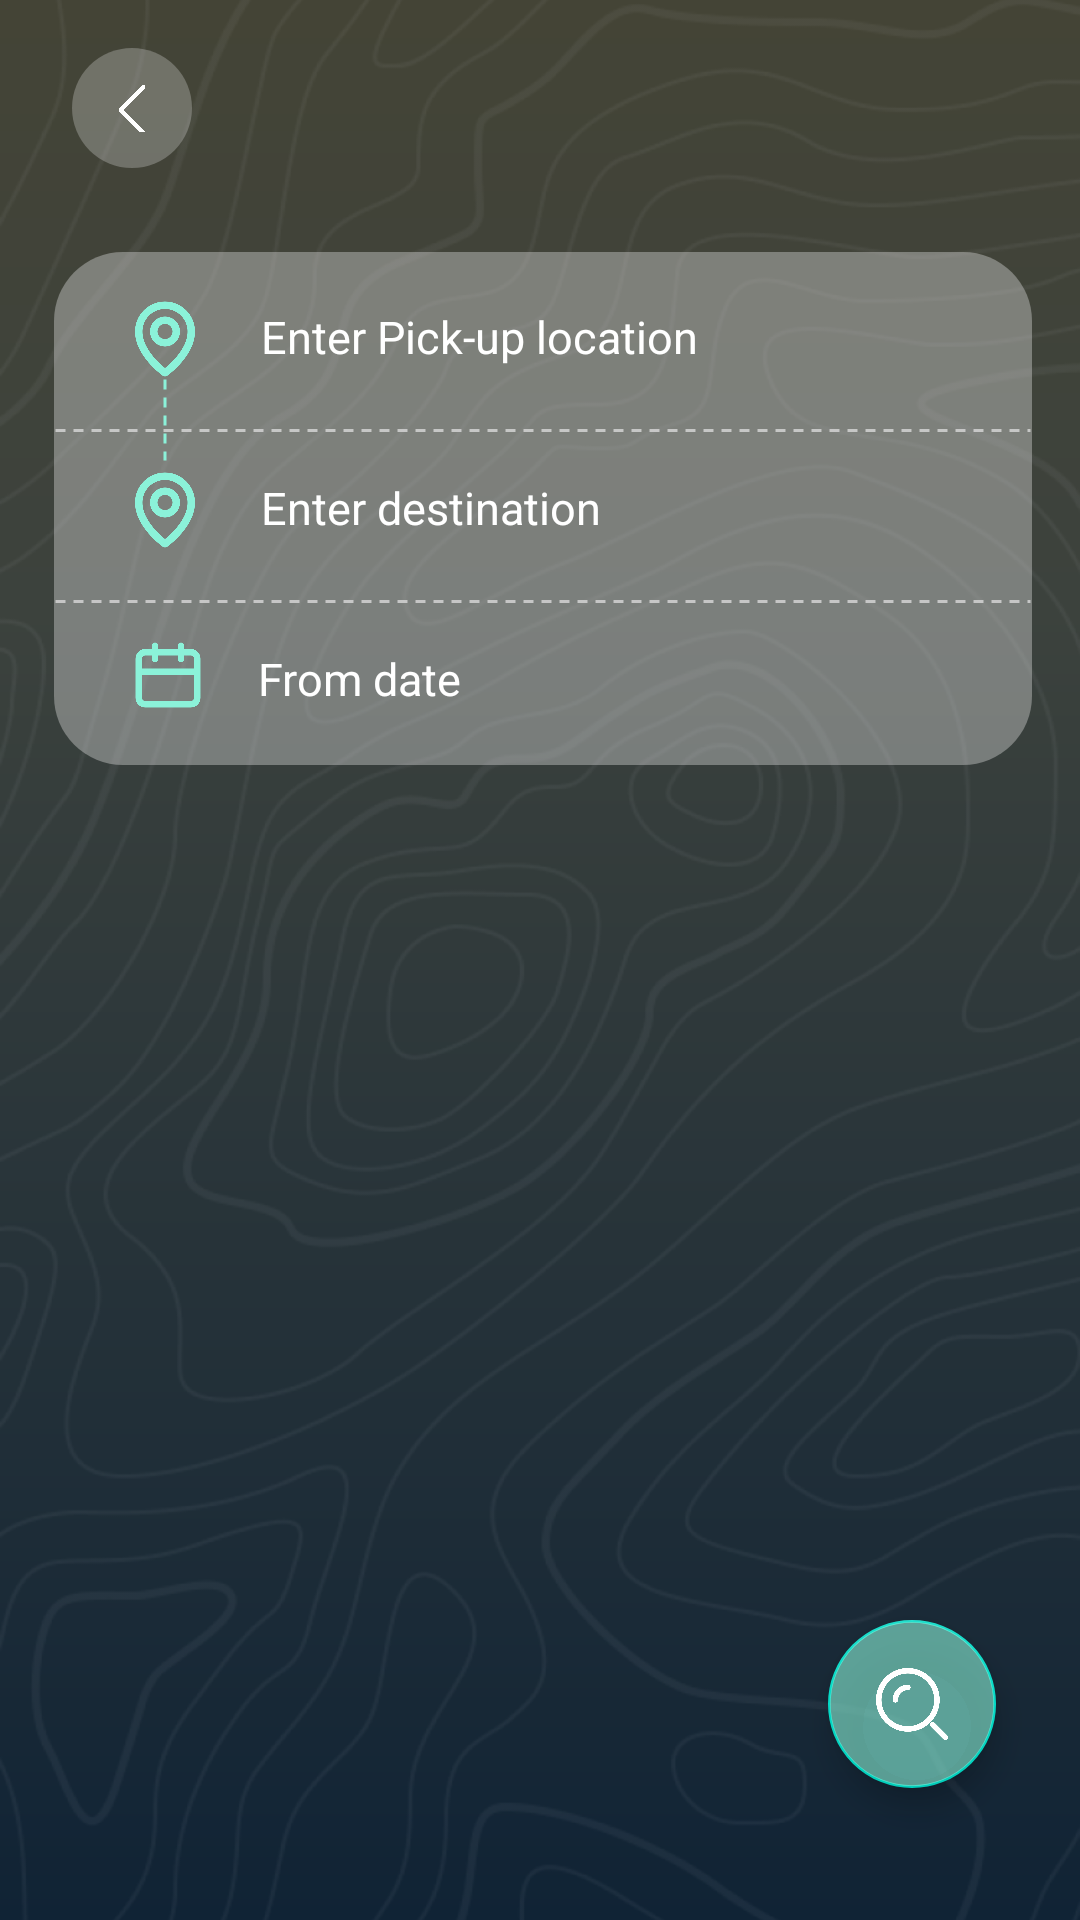

Locate icon controls on the screen. Image size 1080×1920, boxes as (x1, y1, x2, y2).
arrow back: (119, 85, 145, 132)
calender: (135, 642, 201, 708)
search: (828, 1620, 996, 1788)
